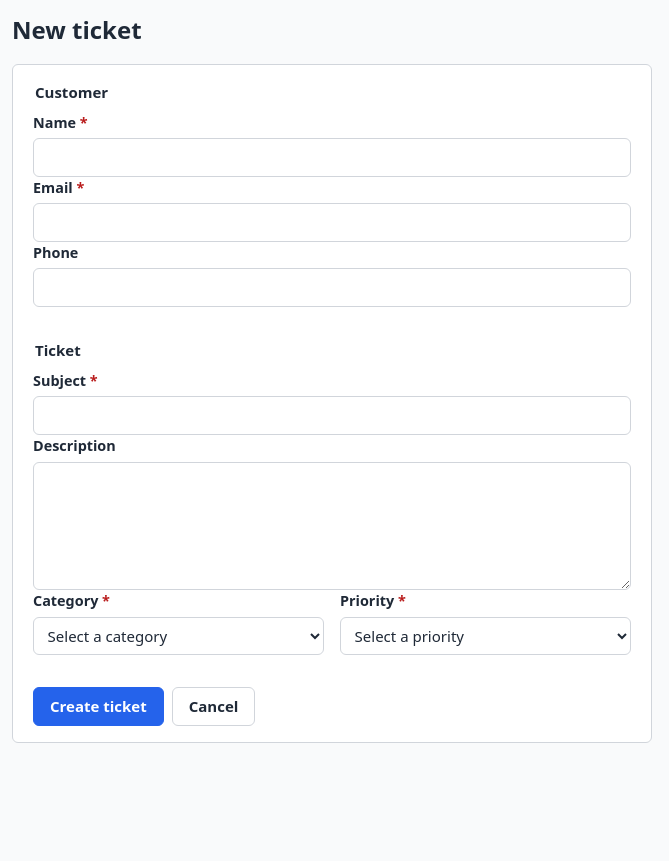
TicketCreate page › shows 422 errors under the matching inputs and stays on the page (US1-AS3)
Type "not-an-email" into the field with id "customer_email". click: (332, 223)
box: left=33, top=203, right=631, bottom=242
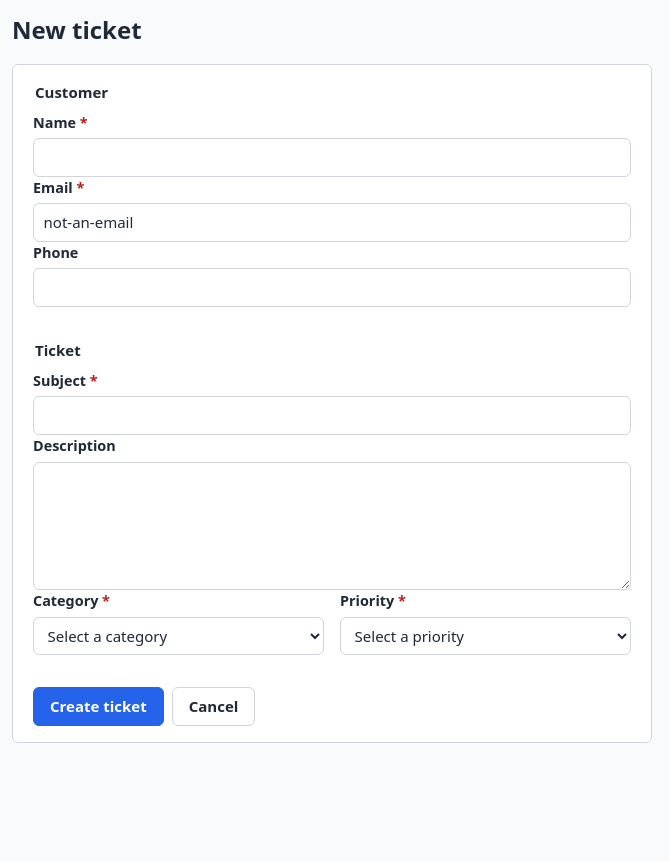
Submit the form
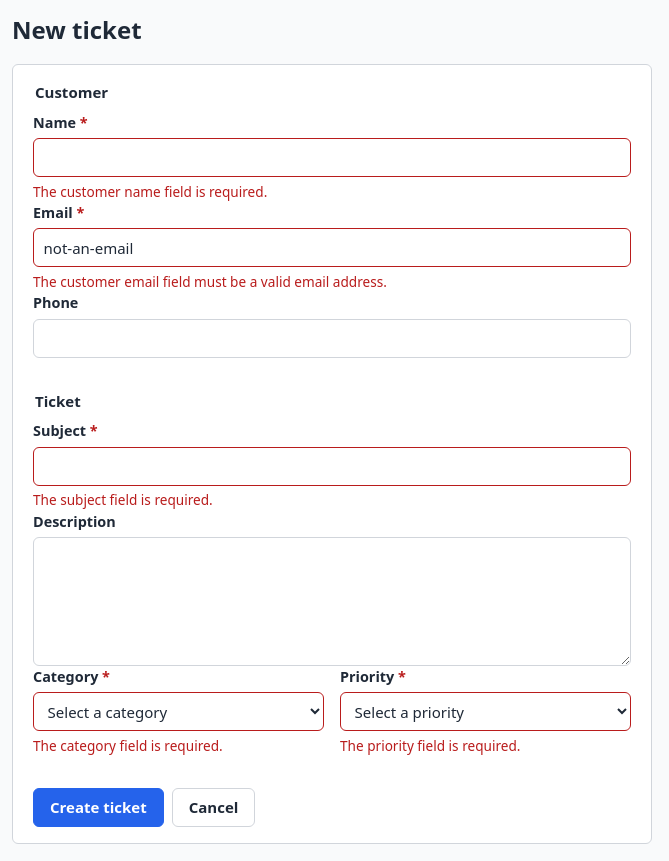
Check: the text with class "field-error" reads "The customer name field is required.", box left=33, top=182, right=267, bottom=201
Check: the text with class "field-error" reads "The customer email field must be a valid email address.", box left=33, top=272, right=387, bottom=291
Check: the text with class "field-error" reads "The subject field is required.", box left=33, top=490, right=213, bottom=509
